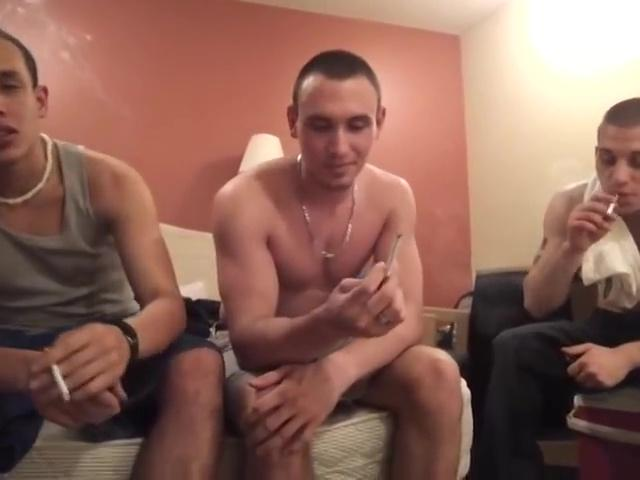cigarette: (380, 229, 409, 281), (48, 359, 74, 405), (609, 194, 623, 216)
